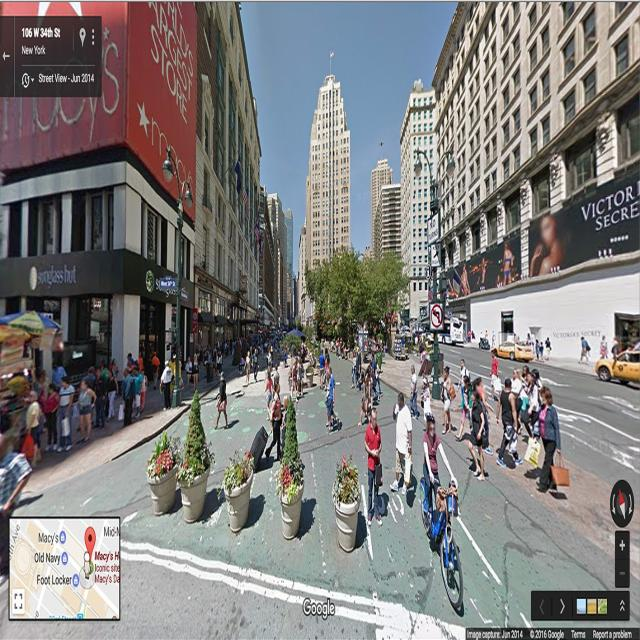body: (442, 232, 517, 301), (524, 385, 570, 493), (0, 432, 33, 574), (423, 411, 459, 522), (364, 312, 429, 358), (494, 378, 524, 470), (362, 405, 384, 528), (529, 210, 568, 278), (389, 391, 413, 497), (466, 388, 486, 482), (264, 379, 284, 467), (474, 376, 494, 457), (76, 377, 98, 444), (56, 374, 74, 454), (454, 374, 473, 443), (439, 365, 456, 435), (43, 380, 59, 453), (326, 364, 342, 436), (92, 366, 108, 432), (266, 322, 310, 346), (119, 366, 136, 428), (14, 485, 47, 515), (524, 371, 540, 432), (213, 372, 229, 432), (25, 388, 40, 451), (357, 371, 371, 427), (105, 368, 119, 423), (401, 466, 419, 508), (159, 359, 173, 412), (420, 375, 433, 431), (122, 366, 134, 423), (493, 443, 518, 470), (132, 364, 144, 420), (39, 367, 50, 427), (442, 421, 472, 443), (488, 348, 500, 402), (263, 369, 274, 423), (280, 395, 289, 460), (325, 370, 335, 428), (409, 364, 419, 422), (510, 366, 522, 413), (52, 354, 68, 388), (32, 403, 47, 439), (457, 357, 470, 398), (374, 491, 391, 522), (20, 363, 36, 395), (364, 364, 374, 413), (373, 354, 384, 398), (468, 457, 492, 477), (502, 328, 522, 352), (138, 367, 148, 414), (524, 464, 550, 482), (99, 358, 111, 396), (371, 352, 380, 402), (168, 354, 176, 406), (578, 335, 591, 365), (610, 333, 620, 371), (290, 358, 298, 405), (84, 366, 97, 394), (366, 369, 373, 420), (192, 351, 200, 394), (366, 358, 373, 405), (272, 363, 280, 404), (243, 349, 252, 385), (355, 346, 362, 392), (296, 357, 304, 397), (251, 348, 259, 387), (184, 354, 192, 391), (318, 348, 325, 390), (531, 368, 543, 392), (236, 334, 254, 350), (350, 348, 357, 389), (227, 415, 241, 434), (520, 364, 531, 388), (137, 350, 144, 386), (255, 329, 267, 349), (324, 352, 331, 386), (317, 336, 334, 350), (151, 351, 161, 374), (441, 420, 456, 435), (290, 346, 308, 358), (124, 357, 139, 370), (265, 345, 272, 372), (237, 353, 245, 375), (601, 335, 608, 360), (530, 329, 536, 356), (490, 329, 498, 349), (214, 349, 220, 375), (111, 358, 118, 380), (177, 344, 183, 369), (525, 331, 531, 356), (534, 338, 540, 362), (264, 363, 271, 383), (204, 344, 211, 364), (127, 351, 136, 366), (199, 342, 204, 369), (218, 349, 223, 374), (211, 350, 217, 370), (339, 338, 344, 362), (539, 340, 544, 364), (283, 346, 288, 369), (278, 339, 283, 362), (544, 336, 552, 350), (140, 412, 153, 420), (310, 352, 316, 369), (196, 344, 200, 368), (340, 336, 344, 360), (478, 330, 484, 346), (270, 345, 274, 368), (345, 343, 350, 361), (335, 338, 339, 360), (228, 335, 232, 356), (231, 337, 235, 358), (274, 338, 278, 359), (96, 358, 102, 372), (470, 377, 477, 389), (212, 344, 216, 364), (215, 337, 220, 352), (466, 326, 470, 344), (462, 326, 466, 344), (470, 330, 476, 340), (337, 336, 340, 352), (220, 335, 224, 347), (250, 379, 256, 386), (258, 377, 264, 384), (226, 335, 230, 345), (309, 355, 312, 366), (485, 330, 488, 338)
